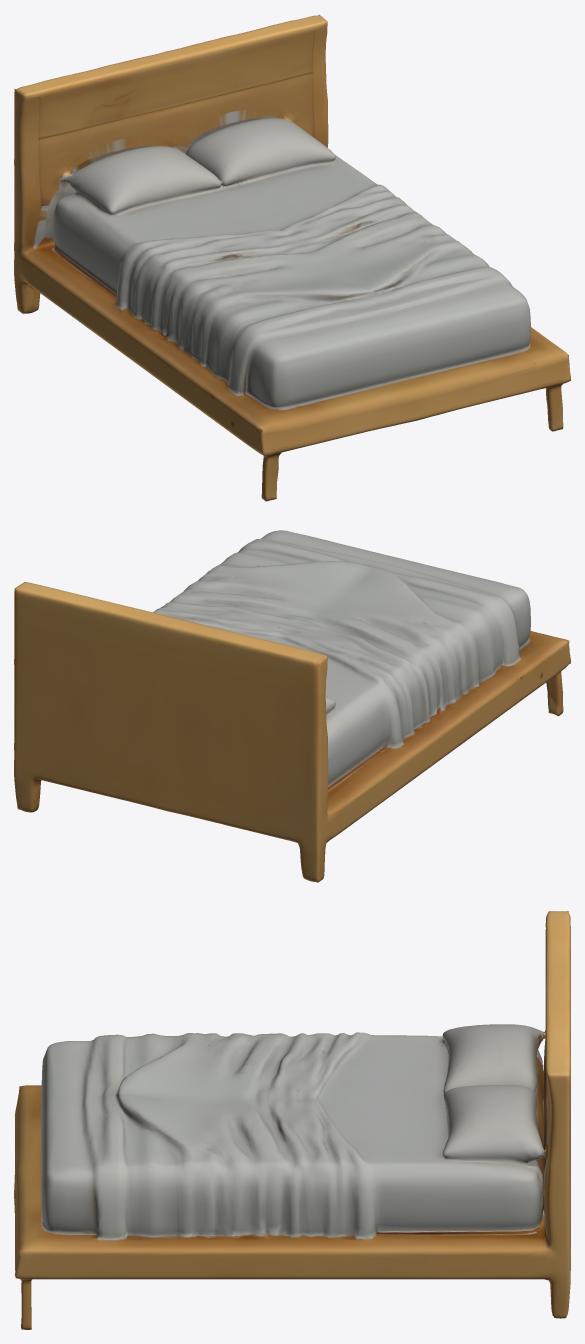
The picture shows the model from 3 angles, top to bottom: view 1: azimuth 30°, elevation 25°; view 2: azimuth 150°, elevation 25°; view 3: azimuth 270°, elevation 25°; orthographic projection. The views are drawn at different scales.
Parts seen in each view (by area): view 1: model; view 2: model; view 3: model.
Part boxes in pixels (<box>): model: <box>14,14,570,501</box>; model: <box>14,530,570,882</box>; model: <box>14,911,570,1329</box>.
Bounding box in the file's own units: 1.35 × 0.9728 × 1.91.
Materials: 1 (1 with a texture image).
